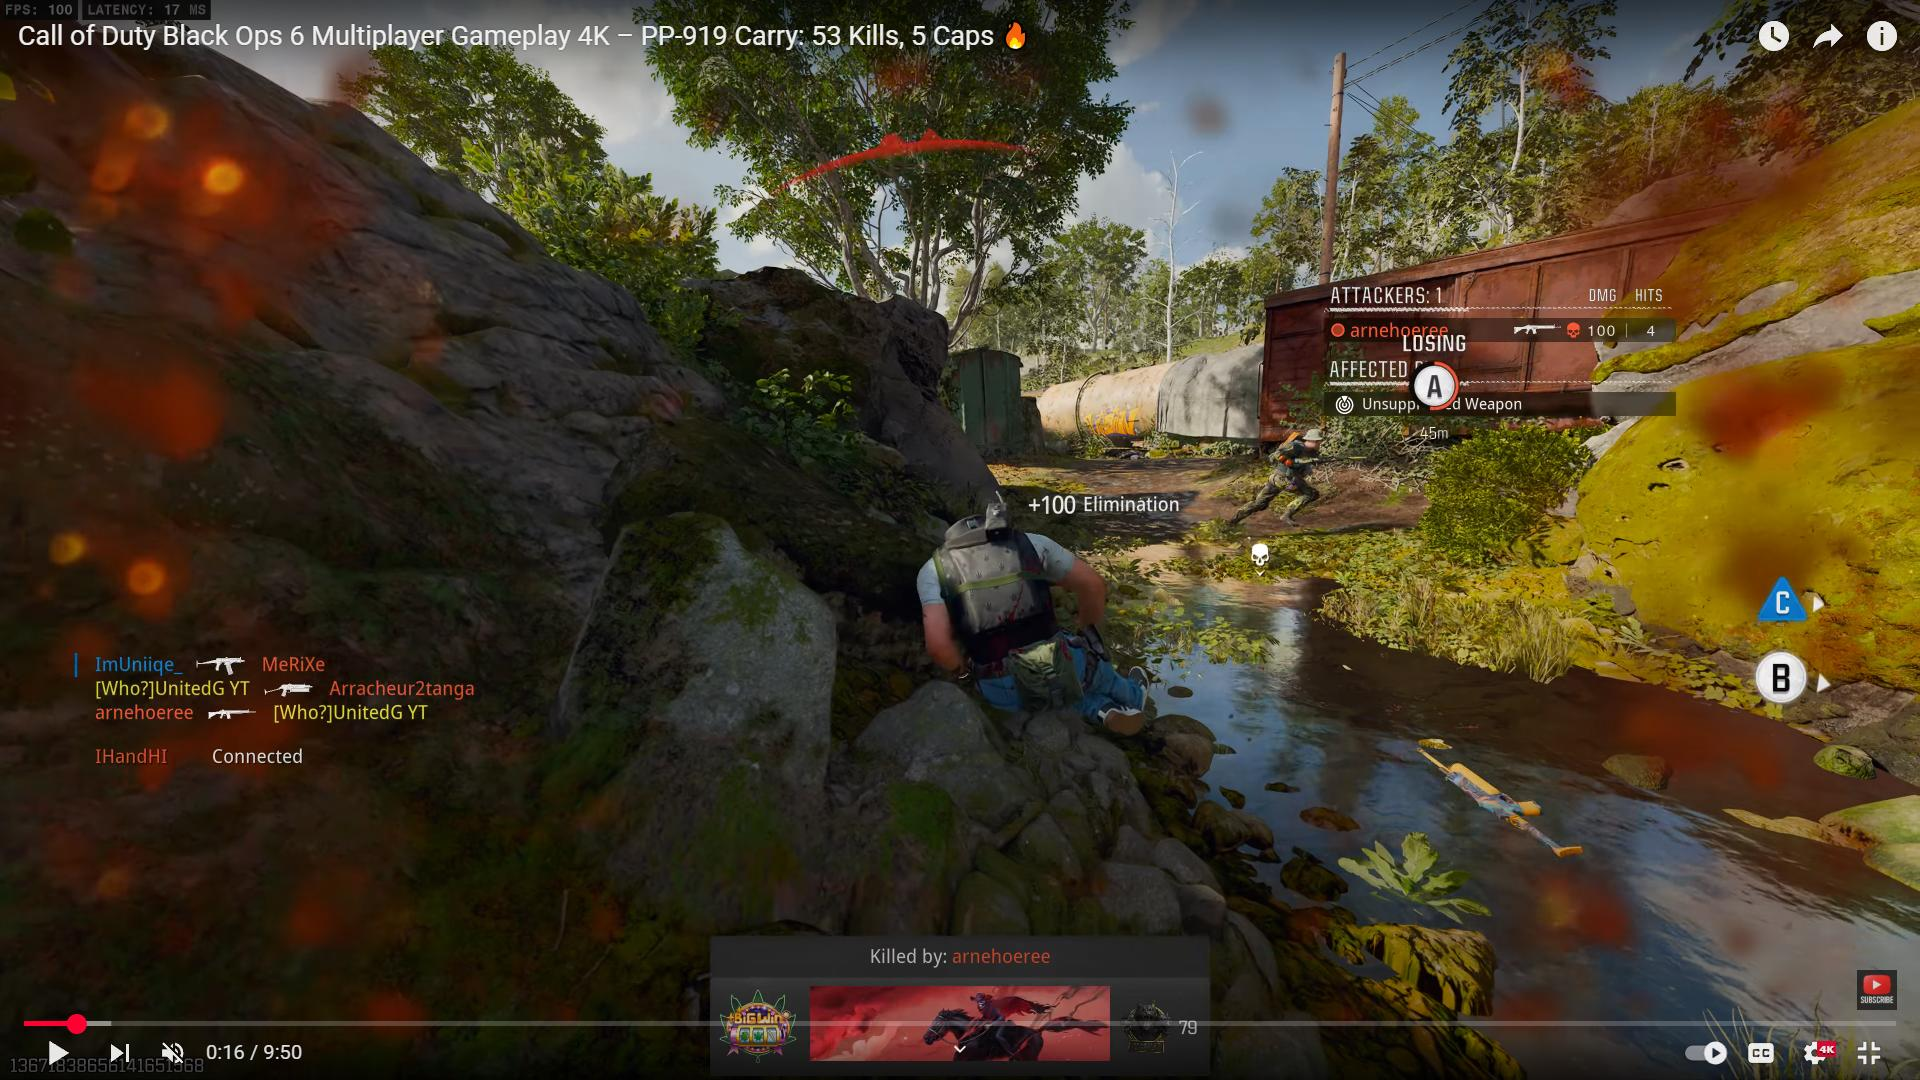Enemy: (1240, 417, 1338, 517)
